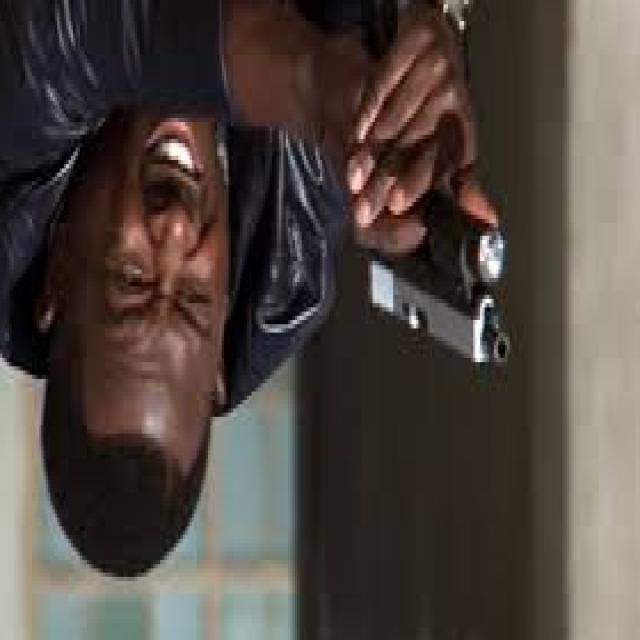gun: (354, 92, 538, 394)
